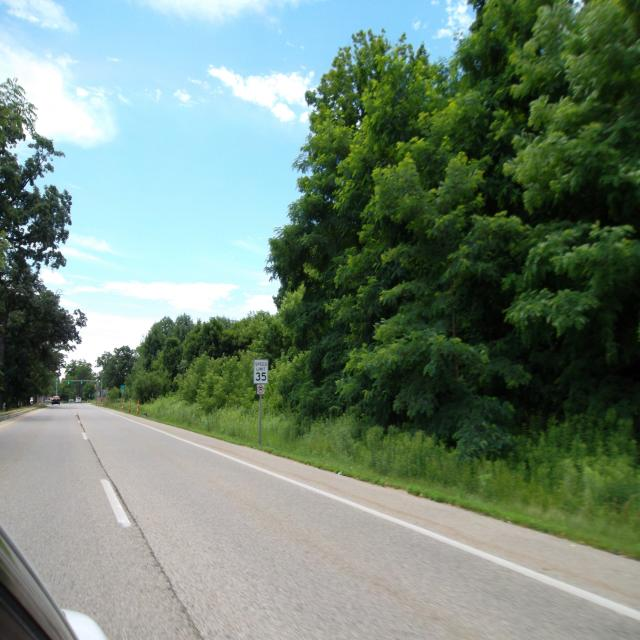regulatory: (252, 356, 271, 390)
